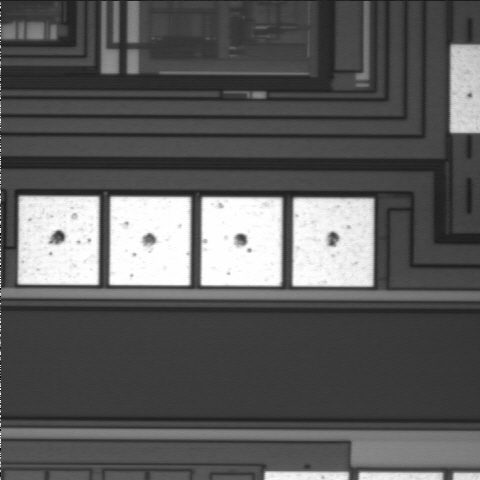pad: (292, 198, 374, 287), (109, 197, 191, 285), (18, 196, 99, 285), (201, 197, 282, 286)
